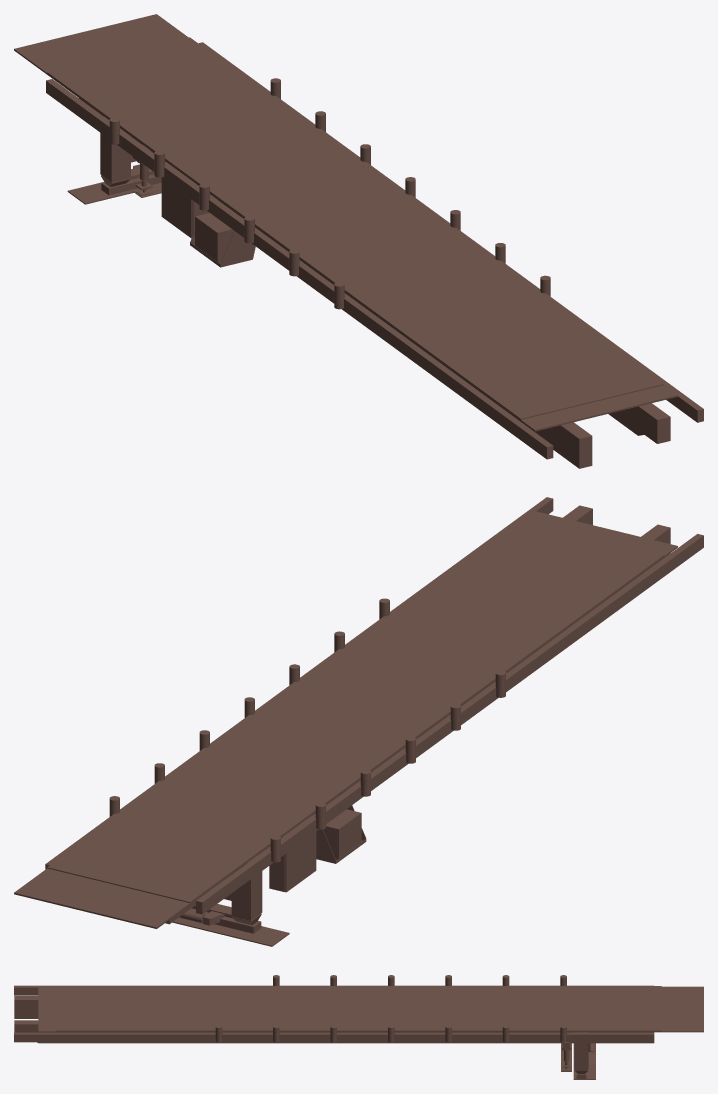
The model's file is GCC-AAV-13220-30.nwd(88).fbx.
3 renders of one model, top to bottom at view 1: azimuth 30°, elevation 25°; view 2: azimuth 150°, elevation 25°; view 3: azimuth 270°, elevation 25°, orthographic. The views are drawn at different scales.
Parts seen in each view (by area): view 1: BOX 6 of SUBEQUIPMENT 6 of EQUIPMENT /735-U-504, BOX 3 of SUBEQUIPMENT 6 of EQUIPMENT /735-U-504, BOX 5 of SUBEQUIPMENT 6 of EQUIPMENT /735-U-504, BOX 4 of SUBEQUIPMENT 6 of EQUIPMENT /735-U-504, BOX 1 of SUBEQUIPMENT 6 of EQUIPMENT /735-U-504, BOX 2 of SUBEQUIPMENT 6 of EQUIPMENT /735-U-504, BOX 4 of SUBEQUIPMENT 10 of EQUIPMENT /735-U-504, BOX 2 of SUBEQUIPMENT 9 of EQUIPMENT /735-U-504, BOX 5 of SUBEQUIPMENT 1 of EQUIPMENT /735-U-504, EXTRUSION 2 of SUBEQUIPMENT 10 of EQUIPMENT /735-U-504; view 2: BOX 6 of SUBEQUIPMENT 6 of EQUIPMENT /735-U-504, BOX 3 of SUBEQUIPMENT 6 of EQUIPMENT /735-U-504, BOX 5 of SUBEQUIPMENT 6 of EQUIPMENT /735-U-504, BOX 4 of SUBEQUIPMENT 6 of EQUIPMENT /735-U-504, BOX 4 of SUBEQUIPMENT 10 of EQUIPMENT /735-U-504, BOX 2 of SUBEQUIPMENT 9 of EQUIPMENT /735-U-504, BOX 5 of SUBEQUIPMENT 1 of EQUIPMENT /735-U-504, BOX 1 of SUBEQUIPMENT 1 of EQUIPMENT /735-U-504, BOX 1 of SUBEQUIPMENT 6 of EQUIPMENT /735-U-504; view 3: BOX 6 of SUBEQUIPMENT 6 of EQUIPMENT /735-U-504, BOX 4 of SUBEQUIPMENT 6 of EQUIPMENT /735-U-504, BOX 5 of SUBEQUIPMENT 6 of EQUIPMENT /735-U-504, BOX 2 of SUBEQUIPMENT 6 of EQUIPMENT /735-U-504, BOX 3 of SUBEQUIPMENT 6 of EQUIPMENT /735-U-504, BOX 1 of SUBEQUIPMENT 6 of EQUIPMENT /735-U-504, BOX 8 of SUBEQUIPMENT 1 of EQUIPMENT /735-U-504, BOX 1 of SUBEQUIPMENT 1 of EQUIPMENT /735-U-504.
Boxes of the visible parts, bbox=[...] form: BOX 6 of SUBEQUIPMENT 6 of EQUIPMENT /735-U-504: bbox=[47, 37, 663, 419]; BOX 3 of SUBEQUIPMENT 6 of EQUIPMENT /735-U-504: bbox=[46, 79, 553, 459]; BOX 5 of SUBEQUIPMENT 6 of EQUIPMENT /735-U-504: bbox=[14, 14, 677, 431]; BOX 4 of SUBEQUIPMENT 6 of EQUIPMENT /735-U-504: bbox=[198, 42, 703, 422]; BOX 1 of SUBEQUIPMENT 6 of EQUIPMENT /735-U-504: bbox=[79, 98, 592, 468]; BOX 2 of SUBEQUIPMENT 6 of EQUIPMENT /735-U-504: bbox=[608, 403, 670, 443]; BOX 4 of SUBEQUIPMENT 10 of EQUIPMENT /735-U-504: bbox=[195, 213, 234, 263]; BOX 2 of SUBEQUIPMENT 9 of EQUIPMENT /735-U-504: bbox=[161, 178, 192, 238]; BOX 5 of SUBEQUIPMENT 1 of EQUIPMENT /735-U-504: bbox=[100, 116, 130, 182]; EXTRUSION 2 of SUBEQUIPMENT 10 of EQUIPMENT /735-U-504: bbox=[220, 217, 255, 266]; BOX 6 of SUBEQUIPMENT 6 of EQUIPMENT /735-U-504: bbox=[47, 520, 664, 902]; BOX 3 of SUBEQUIPMENT 6 of EQUIPMENT /735-U-504: bbox=[196, 534, 703, 914]; BOX 5 of SUBEQUIPMENT 6 of EQUIPMENT /735-U-504: bbox=[14, 511, 677, 928]; BOX 4 of SUBEQUIPMENT 6 of EQUIPMENT /735-U-504: bbox=[45, 497, 553, 869]; BOX 4 of SUBEQUIPMENT 10 of EQUIPMENT /735-U-504: bbox=[323, 809, 361, 859]; BOX 2 of SUBEQUIPMENT 9 of EQUIPMENT /735-U-504: bbox=[285, 832, 316, 892]; BOX 5 of SUBEQUIPMENT 1 of EQUIPMENT /735-U-504: bbox=[231, 855, 262, 920]; BOX 1 of SUBEQUIPMENT 1 of EQUIPMENT /735-U-504: bbox=[172, 917, 289, 946]; BOX 1 of SUBEQUIPMENT 6 of EQUIPMENT /735-U-504: bbox=[165, 524, 670, 924]; BOX 6 of SUBEQUIPMENT 6 of EQUIPMENT /735-U-504: bbox=[56, 986, 661, 1031]; BOX 4 of SUBEQUIPMENT 6 of EQUIPMENT /735-U-504: bbox=[14, 1032, 654, 1042]; BOX 5 of SUBEQUIPMENT 6 of EQUIPMENT /735-U-504: bbox=[38, 986, 703, 1032]; BOX 2 of SUBEQUIPMENT 6 of EQUIPMENT /735-U-504: bbox=[14, 1020, 654, 1043]; BOX 3 of SUBEQUIPMENT 6 of EQUIPMENT /735-U-504: bbox=[14, 985, 653, 995]; BOX 1 of SUBEQUIPMENT 6 of EQUIPMENT /735-U-504: bbox=[14, 996, 38, 1018]; BOX 8 of SUBEQUIPMENT 1 of EQUIPMENT /735-U-504: bbox=[574, 1032, 588, 1069]; BOX 1 of SUBEQUIPMENT 1 of EQUIPMENT /735-U-504: bbox=[573, 1043, 595, 1079].
Size of the model in its own units: 114 by 49.47 by 568.
